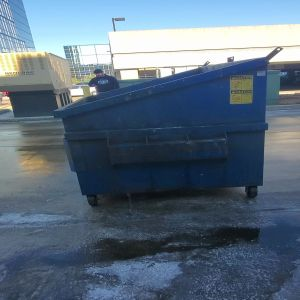Dumpster: (57, 90, 272, 210)
Person: (89, 68, 119, 89)
